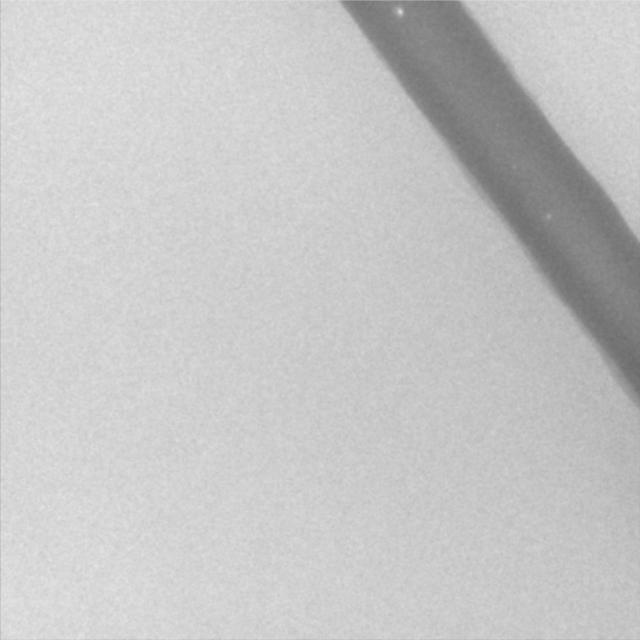air hole: (395, 6, 404, 16)
